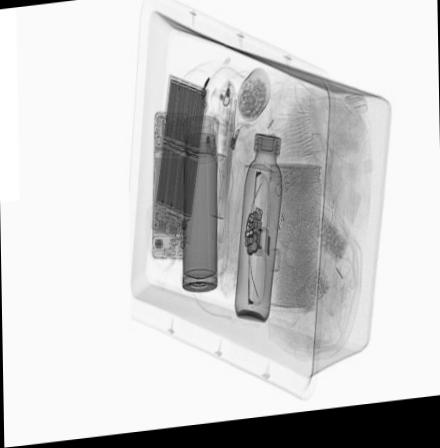Powerbank: (152, 80, 207, 244)
